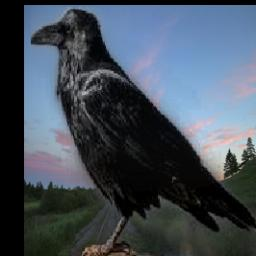Crow: (31, 8, 256, 256)
